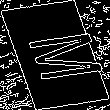M_E: (8, 27, 102, 83)
